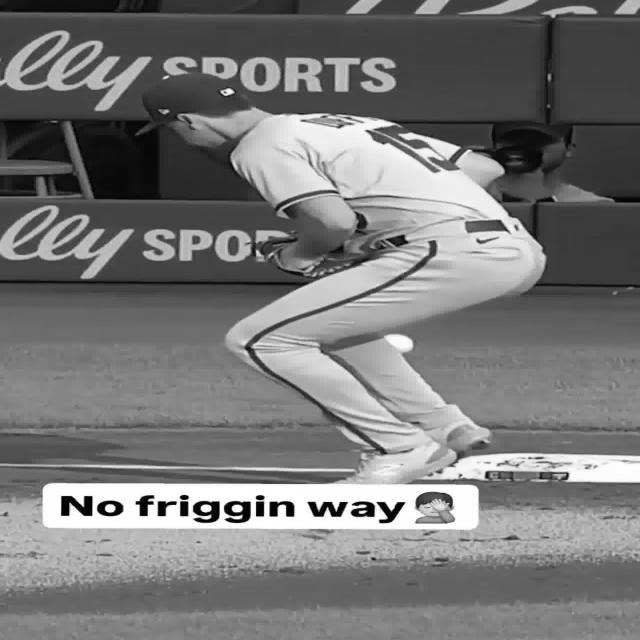base: (422, 452, 640, 482)
baseball: (385, 334, 413, 352)
baseball_glove: (284, 249, 369, 279), (256, 235, 296, 269)
shoe: (336, 441, 458, 484), (427, 420, 491, 459)
